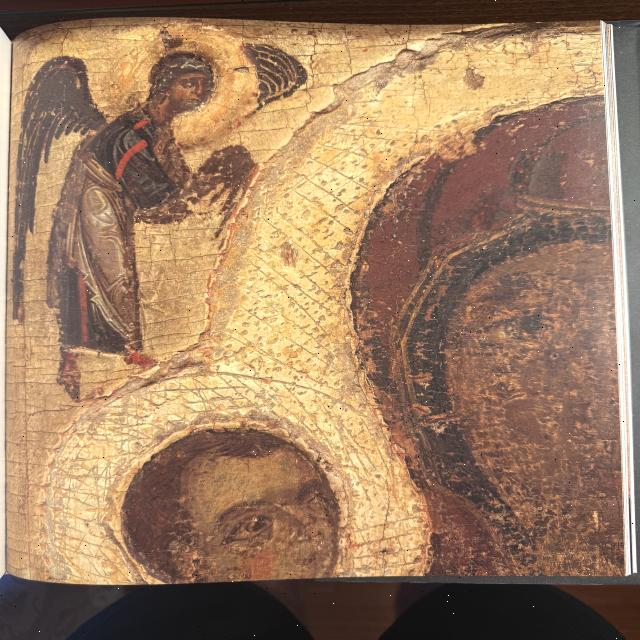angel: (2, 35, 312, 384)
aura: (104, 31, 260, 134)
wing: (7, 53, 111, 323), (245, 42, 318, 112)
